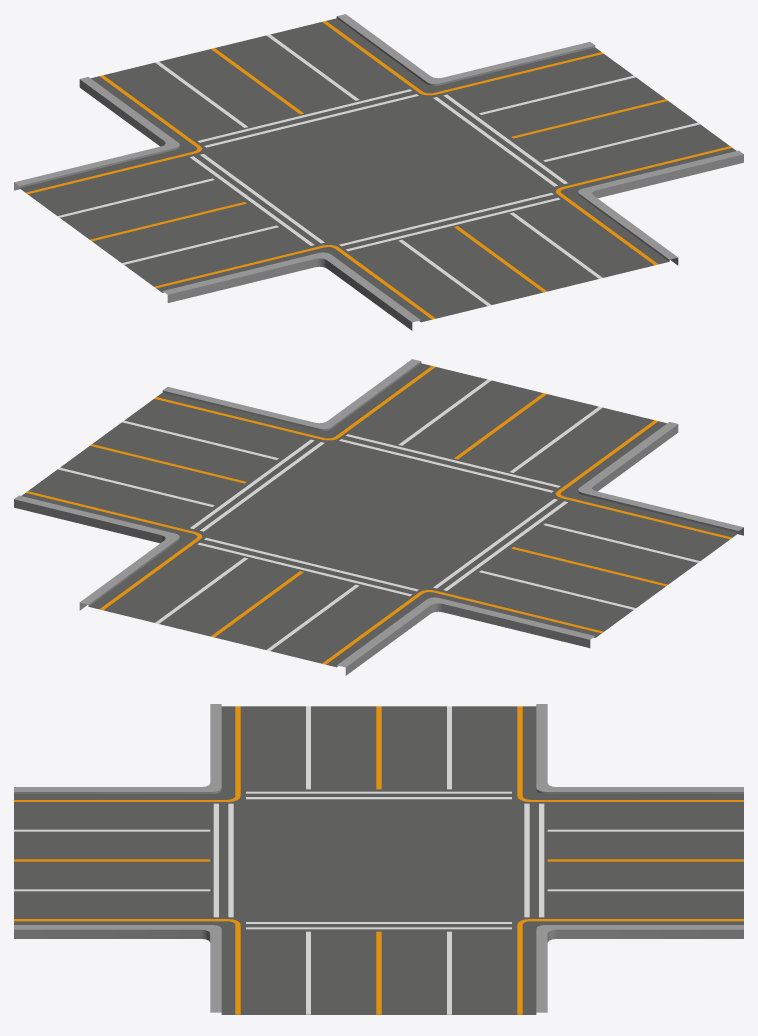
Rendered from Road_B_2L_2_6.glb.
3 views of the same model, one above another, from view 1: azimuth 30°, elevation 25°; view 2: azimuth 150°, elevation 25°; view 3: azimuth 270°, elevation 25° (orthographic). The views are drawn at different scales.
Visible parts, largest first — view 1: Road_B_2L_2_6; view 2: Road_B_2L_2_6; view 3: Road_B_2L_2_6.
Boxes of the visible parts, x1=… form: Road_B_2L_2_6: x1=14, y1=14, x2=743, y2=330; Road_B_2L_2_6: x1=14, y1=359, x2=743, y2=675; Road_B_2L_2_6: x1=14, y1=704, x2=743, y2=1014.
Size of the model in its own units: 29.75 by 0.4148 by 29.75.
Materials: 1 (1 with a texture image).
